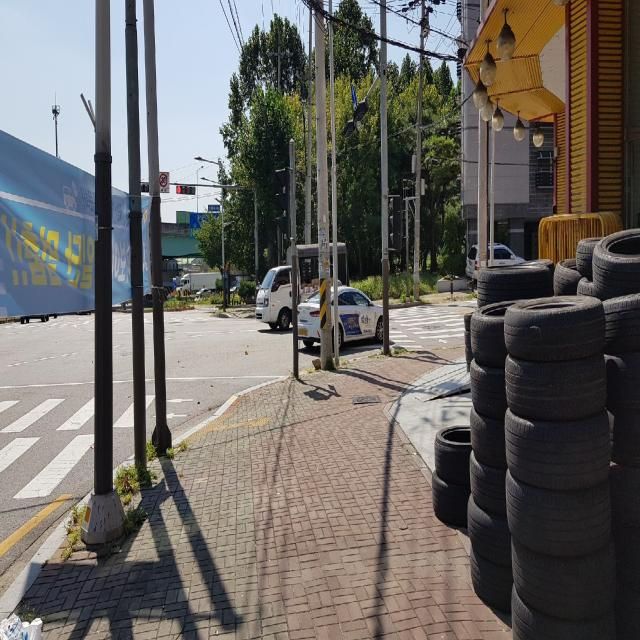횡단보도: (0, 396, 91, 490), (347, 305, 466, 350)
